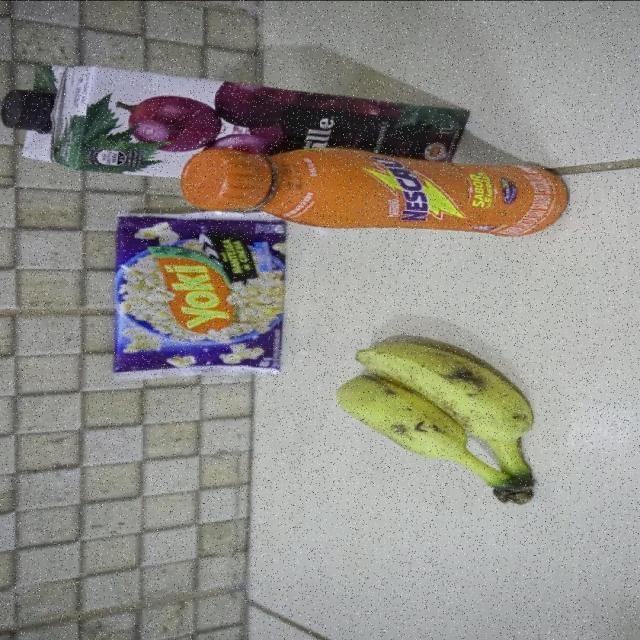Banana: (335, 343, 535, 504)
ChocolateMilk: (182, 148, 568, 238)
Popcorn: (114, 210, 290, 377)
